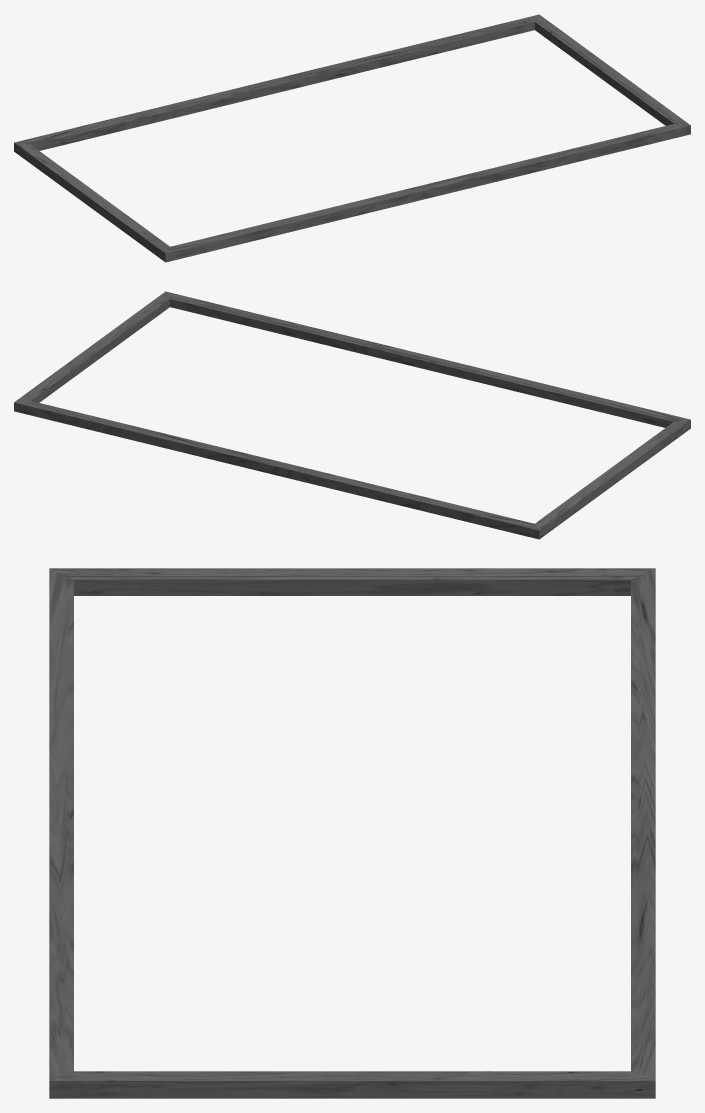
The model's file is Raam100x200-grijs.dae.
The picture shows the model from 3 angles, top to bottom: view 1: azimuth 30°, elevation 25°; view 2: azimuth 150°, elevation 25°; view 3: azimuth 270°, elevation 25°; orthographic projection. The views are drawn at different scales.
Visible parts, largest first — view 1: Raam_geo; view 2: Raam_geo; view 3: Raam_geo.
Part boxes in pixels (x1,y1,x2,y2): Raam_geo: (14,14,690,262); Raam_geo: (14,291,690,539); Raam_geo: (49,568,655,1098).
Size of the model in its own units: 200 by 3.25 by 100.
Materials: 1 (1 with a texture image).
